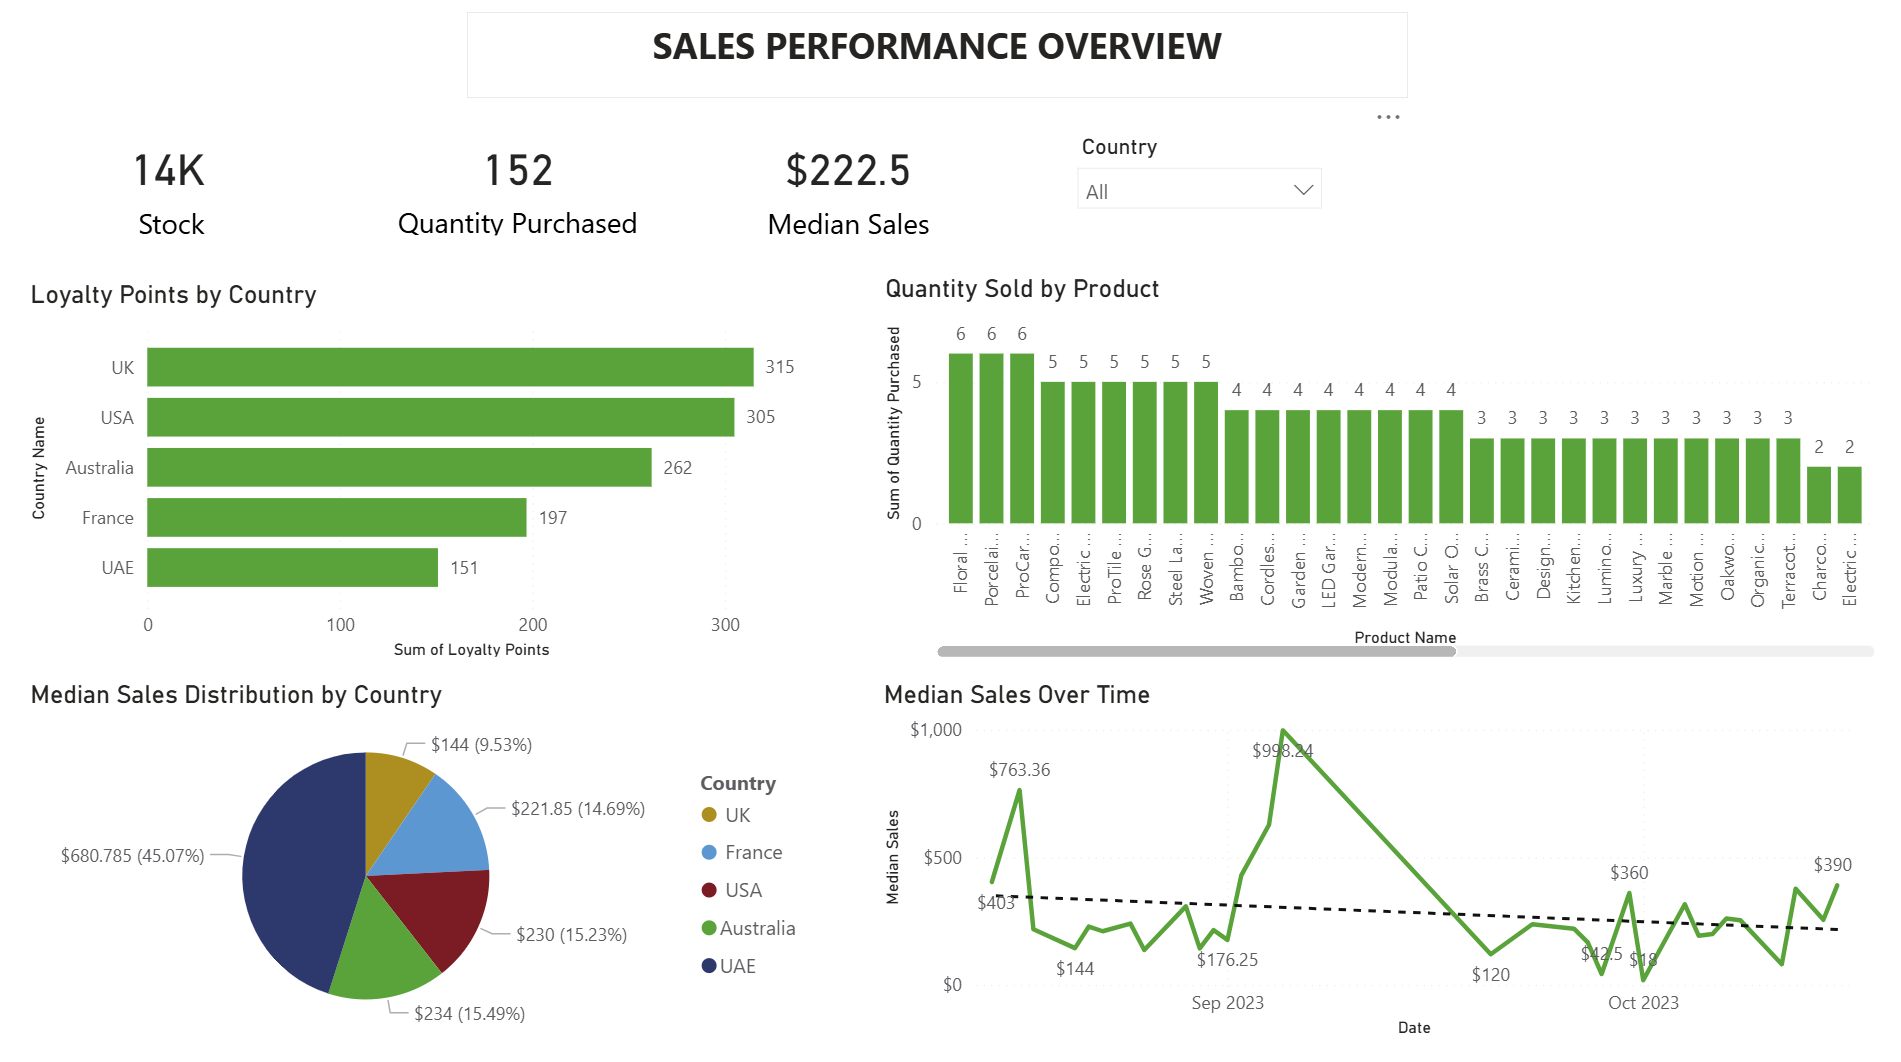

What the dashboard file says about the page in this screenshot:
{"tool":"powerbi","page":{"name":"Sales Overview","canvas":[1280,720],"ordinal":0},"visuals":[{"type":"card","fields":{"Values":["Sum(Sales in USD. Stock  )"]},"box":[9.1,92.5,215.2,79.5],"z":0},{"type":"card","fields":{"Values":["Sum(Sales in USD.Quantity Purchased)"]},"box":[249.4,92.5,204.2,78.5],"z":1000},{"type":"card","fields":{"Values":["aggregation.Median Sales"]},"box":[473.7,93.5,199.1,77.4],"z":2000},{"type":"barChart","title":"Loyalty Points by Country","fields":{"Category":["Sales in USD.Country Name"],"Y":["Sum(Sales in USD. Loyalty Points)"]},"box":[20.1,195.1,533.1,258.5],"z":3000},{"type":"columnChart","title":"Quantity Sold by Product","fields":{"Y":["Sum(Sales in USD.Quantity Purchased)"],"Category":["Sales in USD.Product Name"]},"box":[593.4,191.1,672.9,262.5],"z":4000},{"type":"pieChart","title":"Median Sales Distribution by Country","fields":{"Y":["aggregation.Median Sales"],"Category":["Countries.Country"]},"box":[20.1,463.7,533.1,243.4],"z":5000},{"type":"lineChart","title":"Median Sales Over Time","fields":{"Y":["aggregation.Median Sales"],"Category":["CalendarTable.Date"]},"box":[592.4,463.7,672.9,243.4],"z":6000},{"type":"slicer","fields":{"Values":["Countries.Country"]},"box":[717.1,92.5,184.1,78.5],"z":7000},{"type":"textbox","box":[317.8,16.1,630.6,57.3],"z":7001}]}

Visuals, with their boxes in screenshot pixels (x1, y1, x2, y2), scaled from the page's 1280x720 canvas onto the 1901x1062 screenshot:
card - Sum(Sales in USD. Stock  ): locate(14, 136, 333, 254)
card - Sum(Sales in USD.Quantity Purchased): locate(370, 136, 674, 252)
card - aggregation.Median Sales: locate(704, 138, 999, 252)
"Loyalty Points by Country" barChart: locate(30, 288, 822, 669)
"Quantity Sold by Product" columnChart: locate(881, 282, 1881, 669)
"Median Sales Distribution by Country" pieChart: locate(30, 684, 822, 1043)
"Median Sales Over Time" lineChart: locate(880, 684, 1879, 1043)
slicer - Countries.Country: locate(1065, 136, 1338, 252)
textbox: locate(472, 24, 1409, 108)
